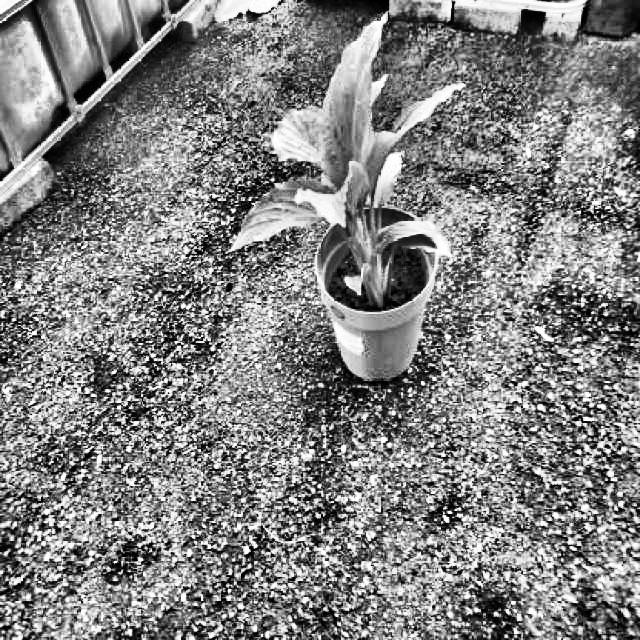plants: (228, 14, 466, 310)
